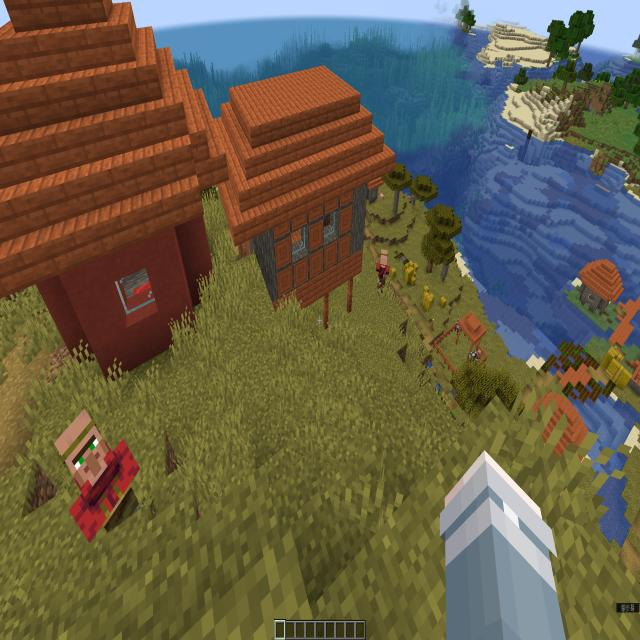cow: (466, 348, 479, 367), (453, 314, 463, 336)
pig: (377, 191, 385, 202)
